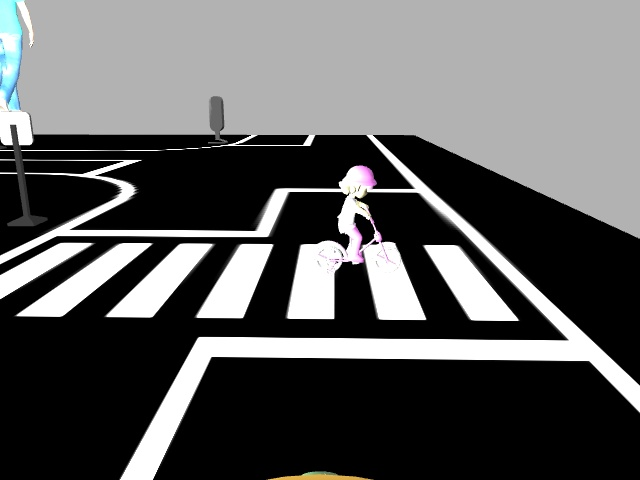Pedestrian: (314, 164, 401, 281)
